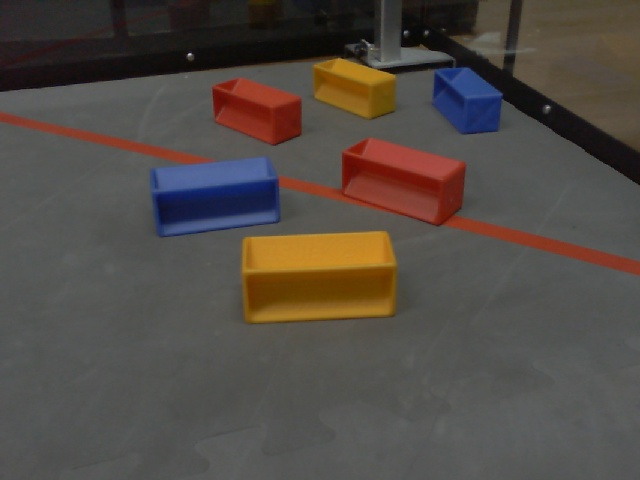BlueSample: (148, 152, 284, 237), (427, 64, 505, 137)
RedSample: (337, 131, 466, 228), (208, 75, 311, 147)
YellowSample: (237, 227, 400, 327), (310, 57, 398, 122)
